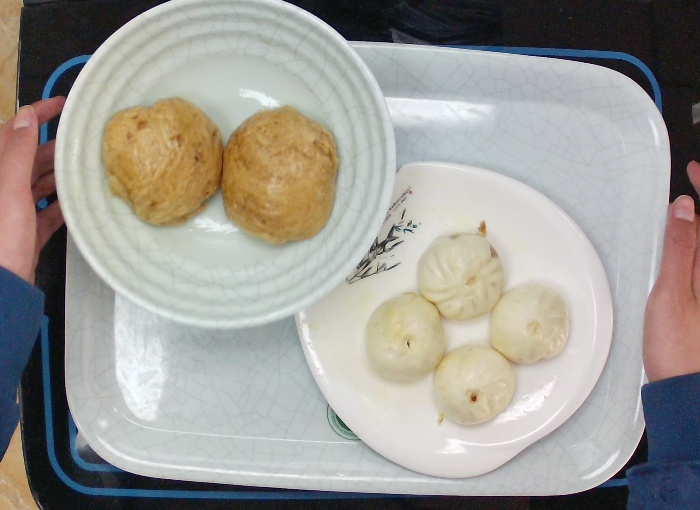JYsf-Da_Tang_Wan: (52, 1, 394, 329)
JYsf-Mian_Pan: (299, 147, 612, 478)
